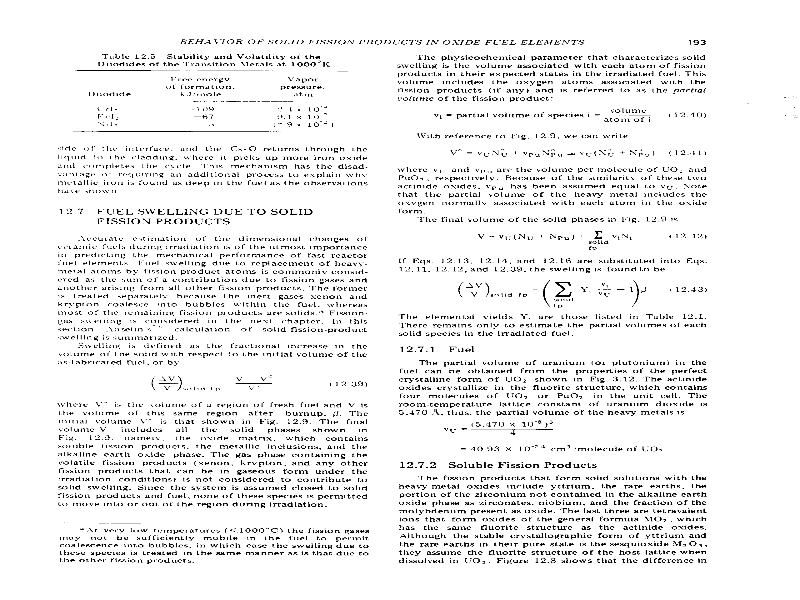table: (56, 50, 370, 140)
